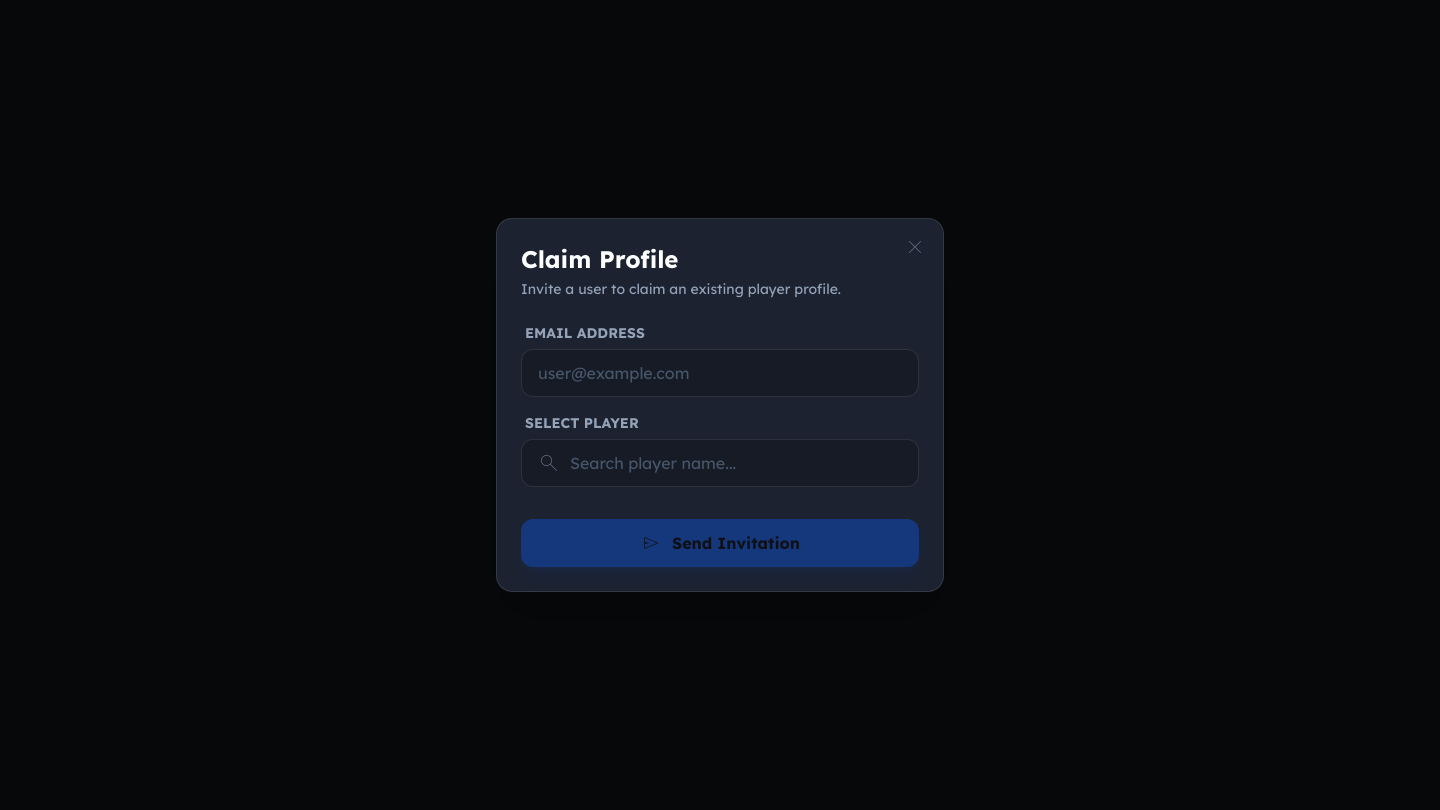
Scenario: ClaimUserModal › should display error on failure
The width and height of the screenshot is (1440, 810).
# Setup valid state
In the field with placeholder "user@example.com": x=720, y=373 [521, 349, 919, 397], type "test@example.com"
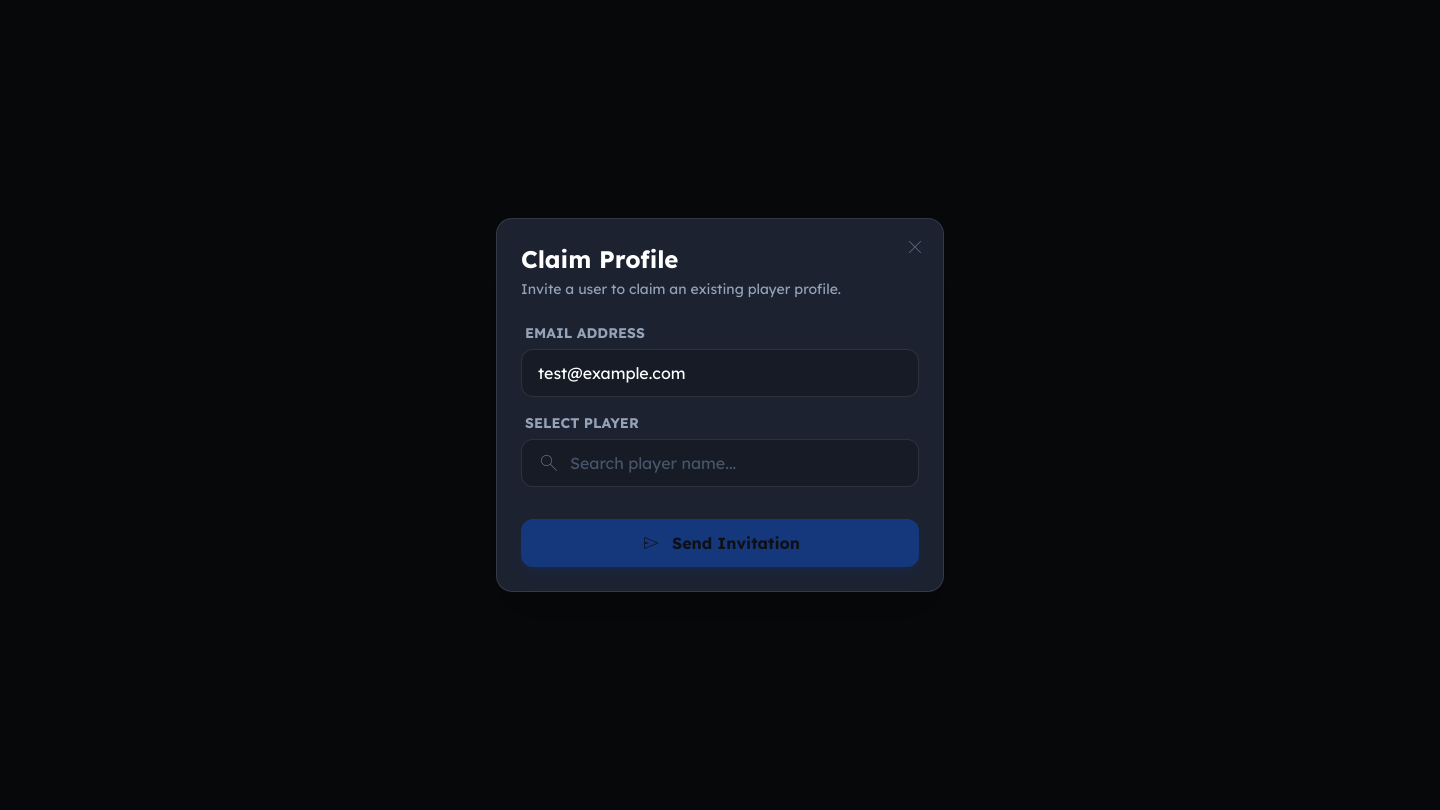
In the field with placeholder "Search player name...": x=720, y=463 [521, 439, 919, 487], type "John"
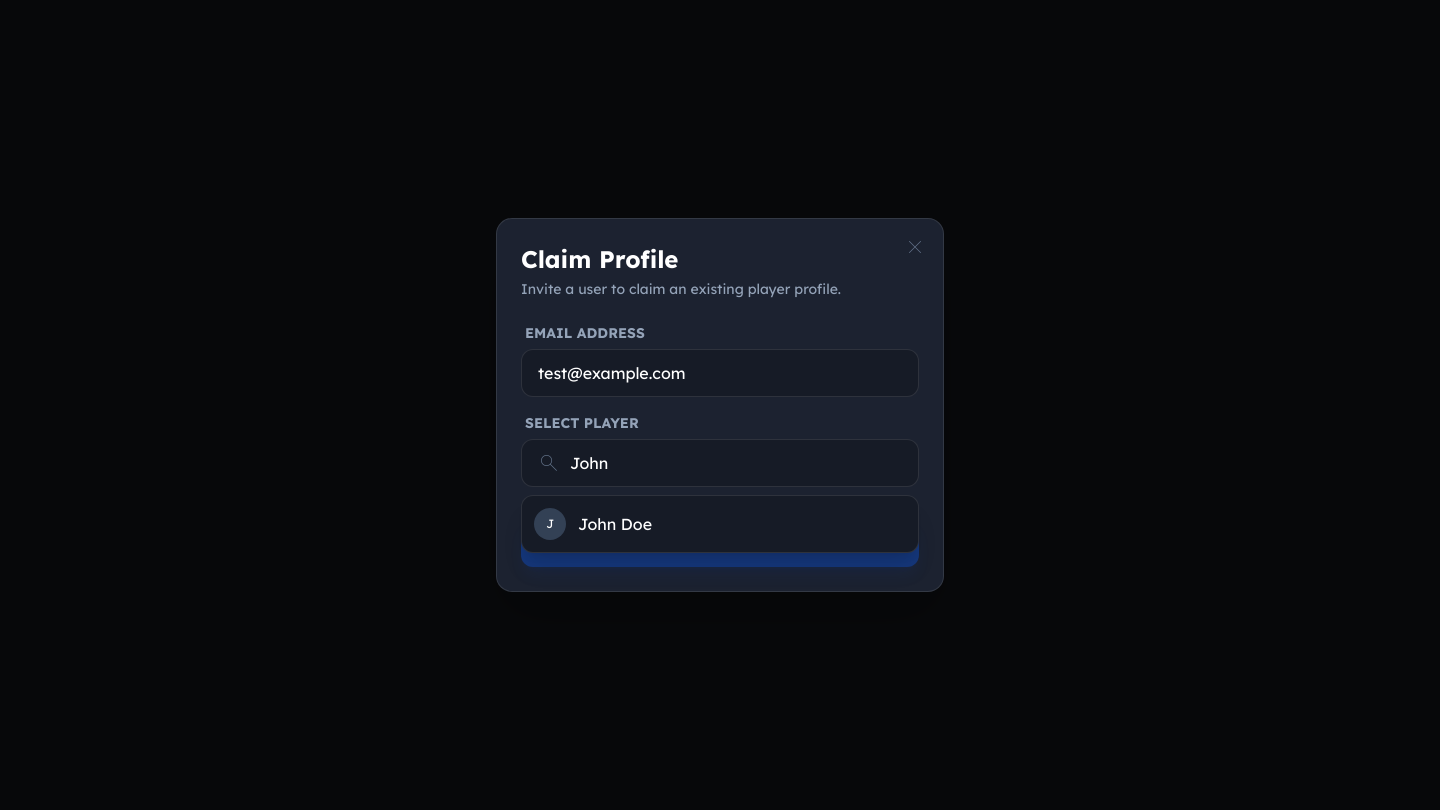
Click the text "John Doe": x=615, y=524 [578, 512, 652, 536]
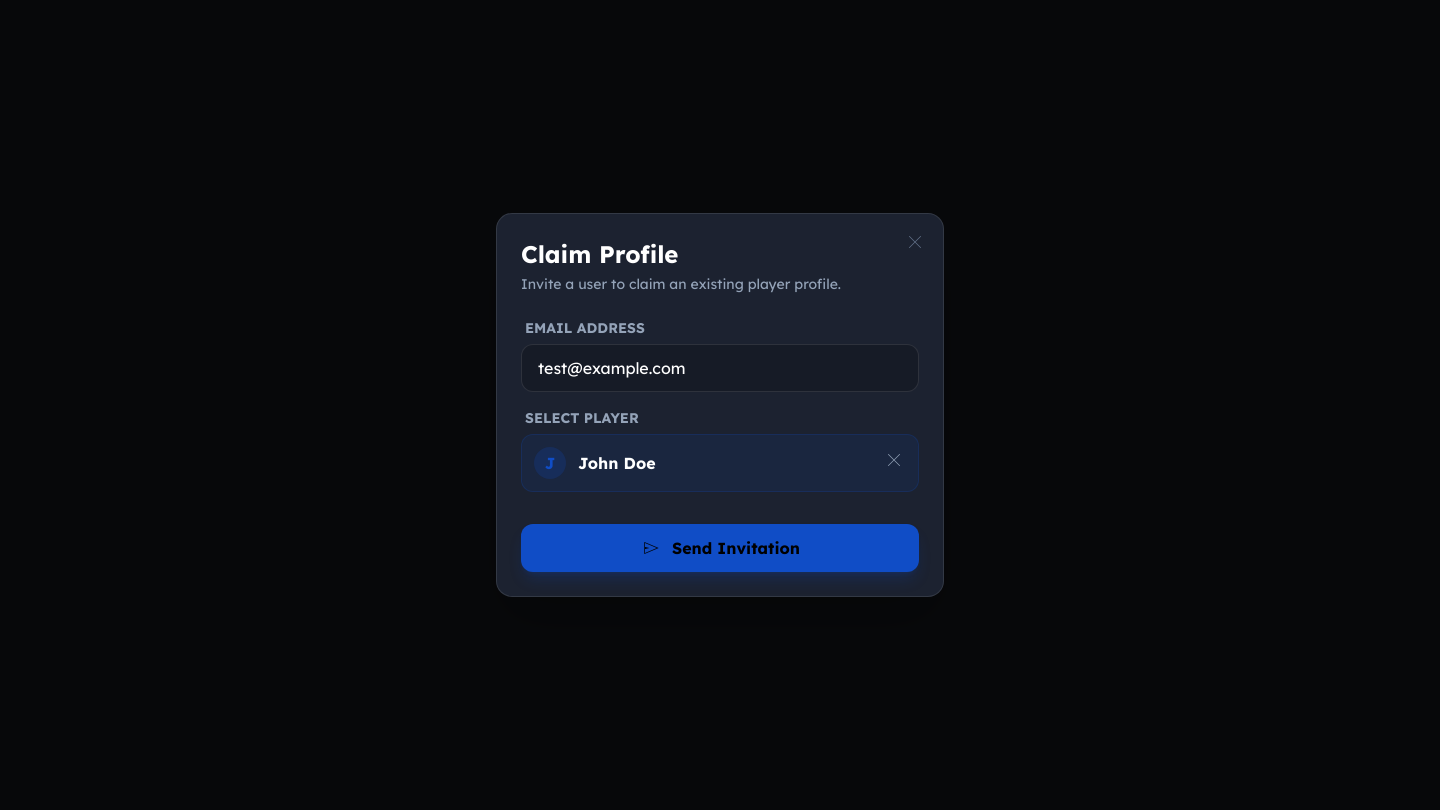
Click the button "Send Invitation": x=720, y=548 [521, 524, 919, 572]
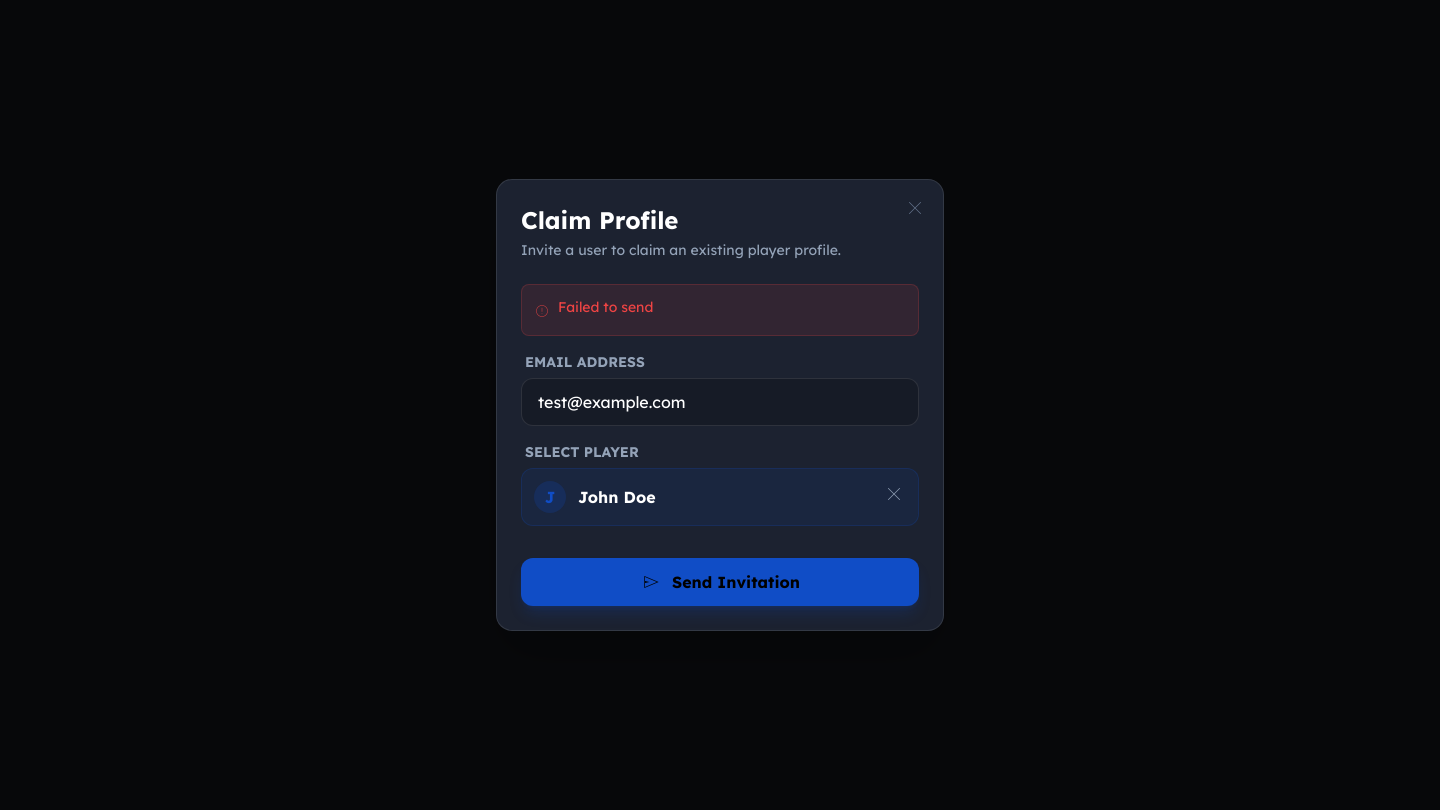
Check: the text "Failed to send" is shown, box [521, 284, 919, 336]
